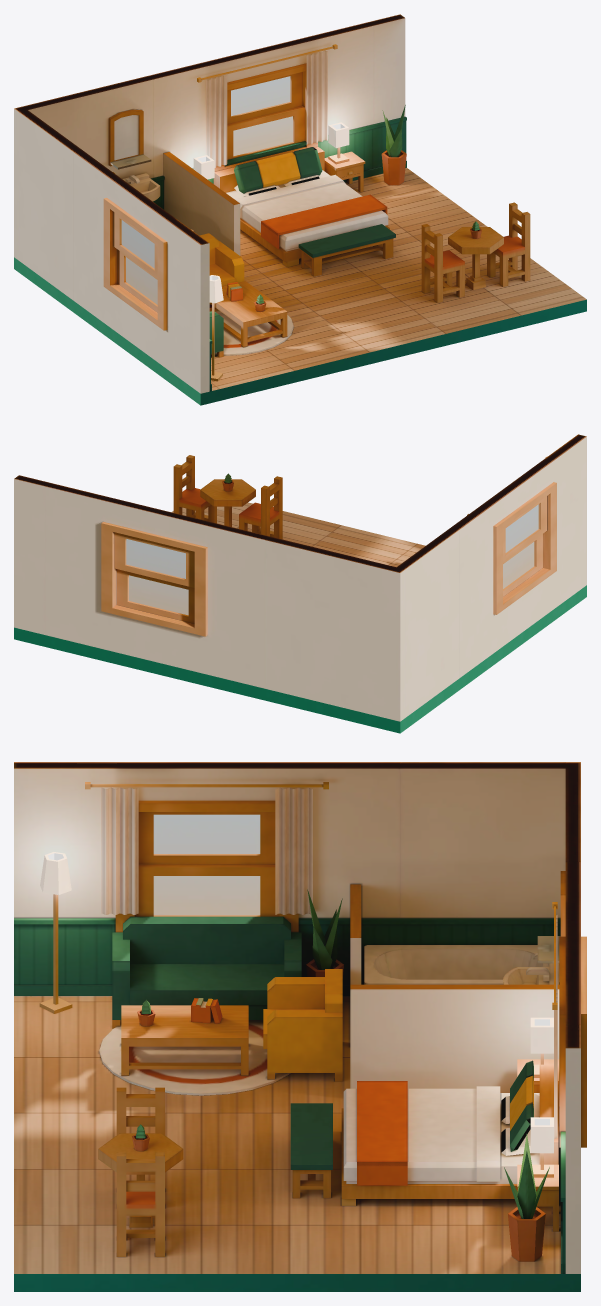
Rendered from suite-mirador.glb.
The picture shows the model from 3 angles, top to bottom: view 1: azimuth 30°, elevation 25°; view 2: azimuth 150°, elevation 25°; view 3: azimuth 270°, elevation 25°; orthographic projection. The views are drawn at different scales.
Visible parts, largest first — view 1: Horneado suite-mirador; view 2: Horneado suite-mirador; view 3: Horneado suite-mirador.
Part boxes in pixels (x1,y1,x2,y2): Horneado suite-mirador: (14, 14, 586, 405); Horneado suite-mirador: (14, 434, 586, 733); Horneado suite-mirador: (14, 762, 586, 1291).
Size of the model in its own units: 6.19 by 2.44 by 5.19.
1 material, 1 textured.
